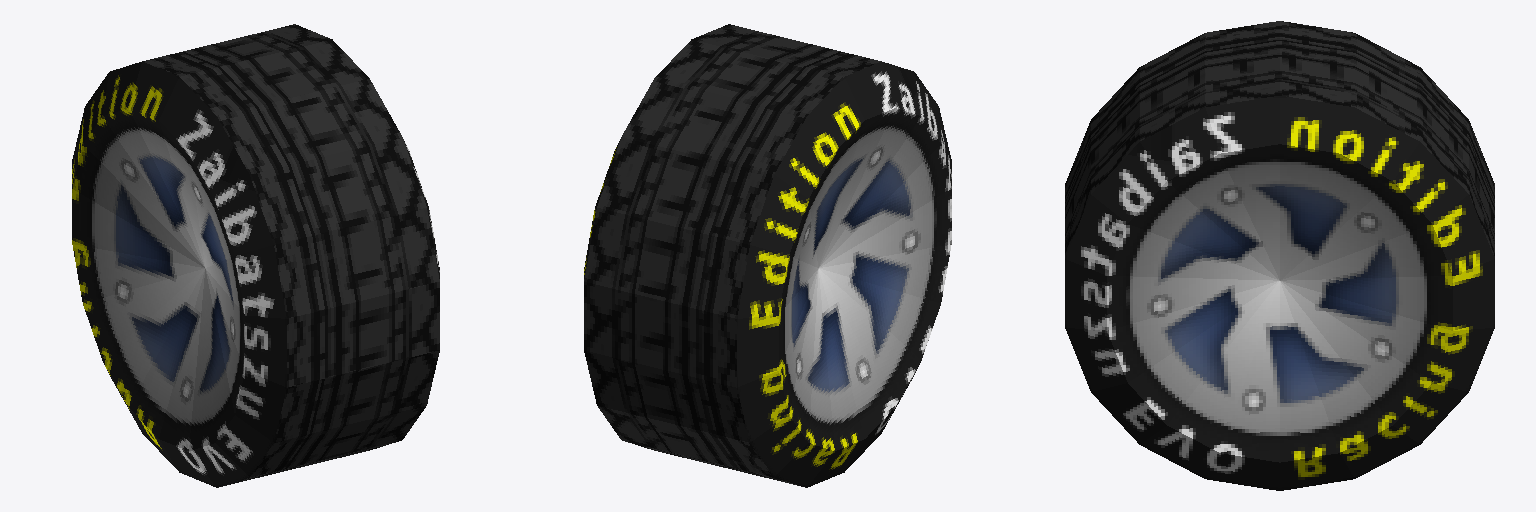
3 views of the same model, side by side, from view 1: azimuth 30°, elevation 25°; view 2: azimuth 150°, elevation 25°; view 3: azimuth 270°, elevation 25° (orthographic).
Visible parts, largest first — view 1: Mesh_wheel_Cylinder01x; view 2: Mesh_wheel_Cylinder01x; view 3: Mesh_wheel_Cylinder01x.
Part boxes in pixels (bbox=[...]): Mesh_wheel_Cylinder01x: bbox=[72, 24, 439, 487]; Mesh_wheel_Cylinder01x: bbox=[584, 24, 951, 487]; Mesh_wheel_Cylinder01x: bbox=[1065, 21, 1494, 490].
Bounding box in the file's own units: 30.68 × 59.69 × 58.78.
1 materials, 1 textured.